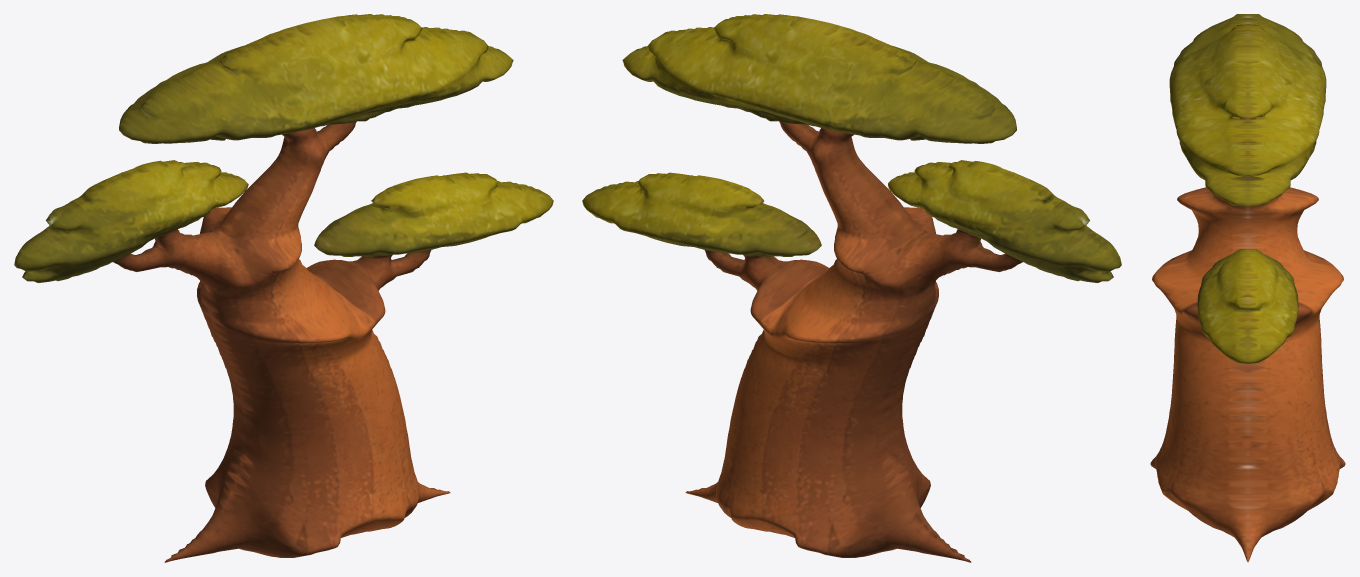
File: 22_trees_a_r01_c01.glb
3 renders of one model, left to right at view 1: azimuth 30°, elevation 25°; view 2: azimuth 150°, elevation 25°; view 3: azimuth 270°, elevation 25°, orthographic. The views are drawn at different scales.
Visible parts, largest first — view 1: 22_trees_a_r01_c01; view 2: 22_trees_a_r01_c01; view 3: 22_trees_a_r01_c01.
Boxes of the visible parts, x1,y1,x2,y2 form: 22_trees_a_r01_c01: [14, 14, 553, 562]; 22_trees_a_r01_c01: [582, 14, 1121, 562]; 22_trees_a_r01_c01: [1150, 14, 1345, 561].
Size of the model in its own units: 5.74 by 5.15 by 2.01.
Materials: 1 (1 with a texture image).
